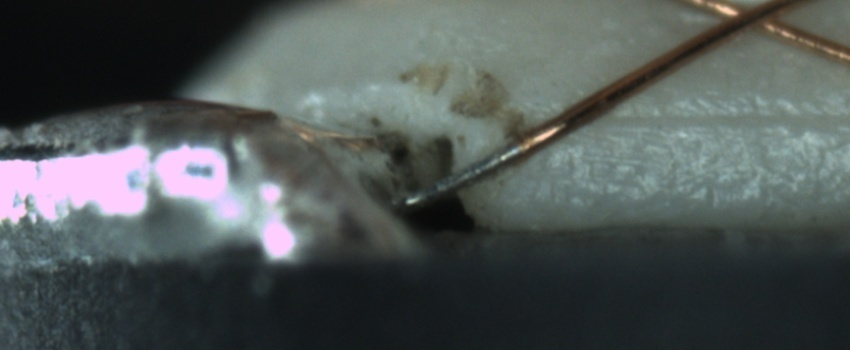CL: (703, 0, 812, 41)
DL: (582, 90, 849, 154)
TS: (403, 142, 523, 208)
